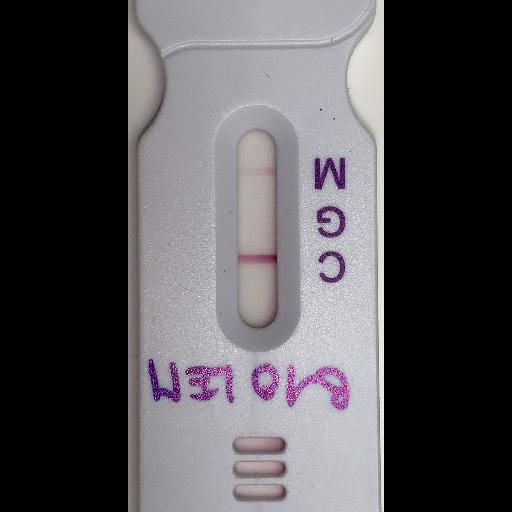Pos: (132, 0, 384, 511)
